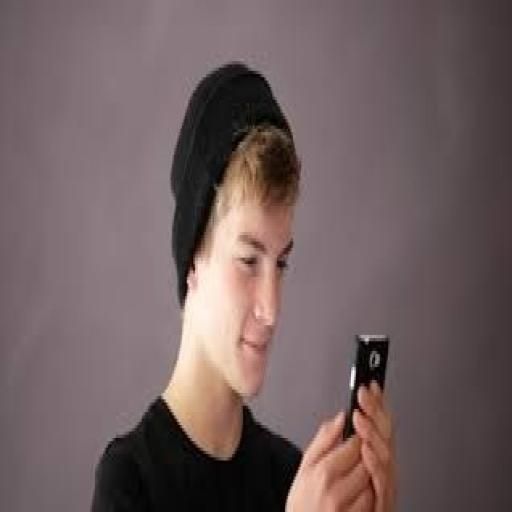texting: (87, 54, 399, 506)
